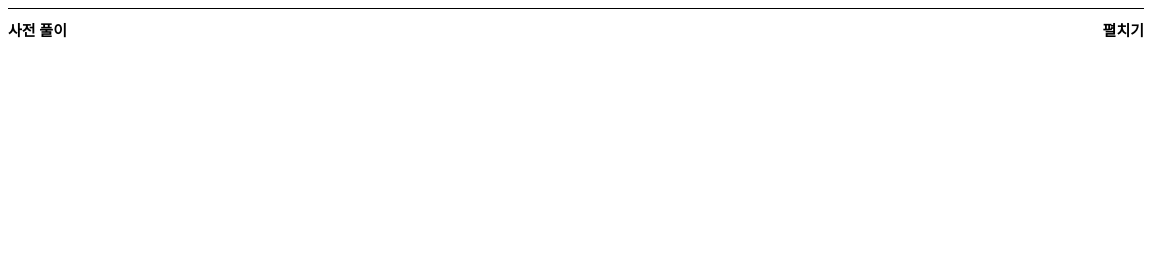
it: DictTabs › takes the part of speech from the dictionary entry, not the short word-list tag
The image size is (1152, 256).
Click the button "사전 풀이 펼치기". click: (37, 31)
box: [8,9,1144,53]
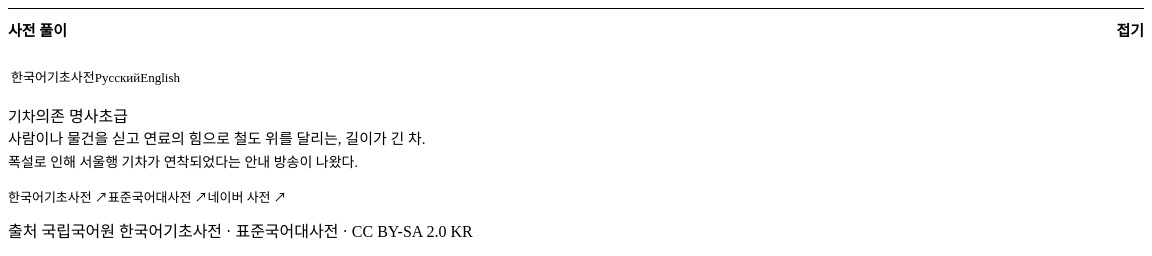
Now the button "사전 풀이 접기" is expanded, box [8,9,1144,53]
